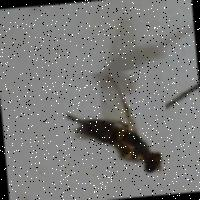Oriental-fruit-fly: (62, 66, 172, 188)
